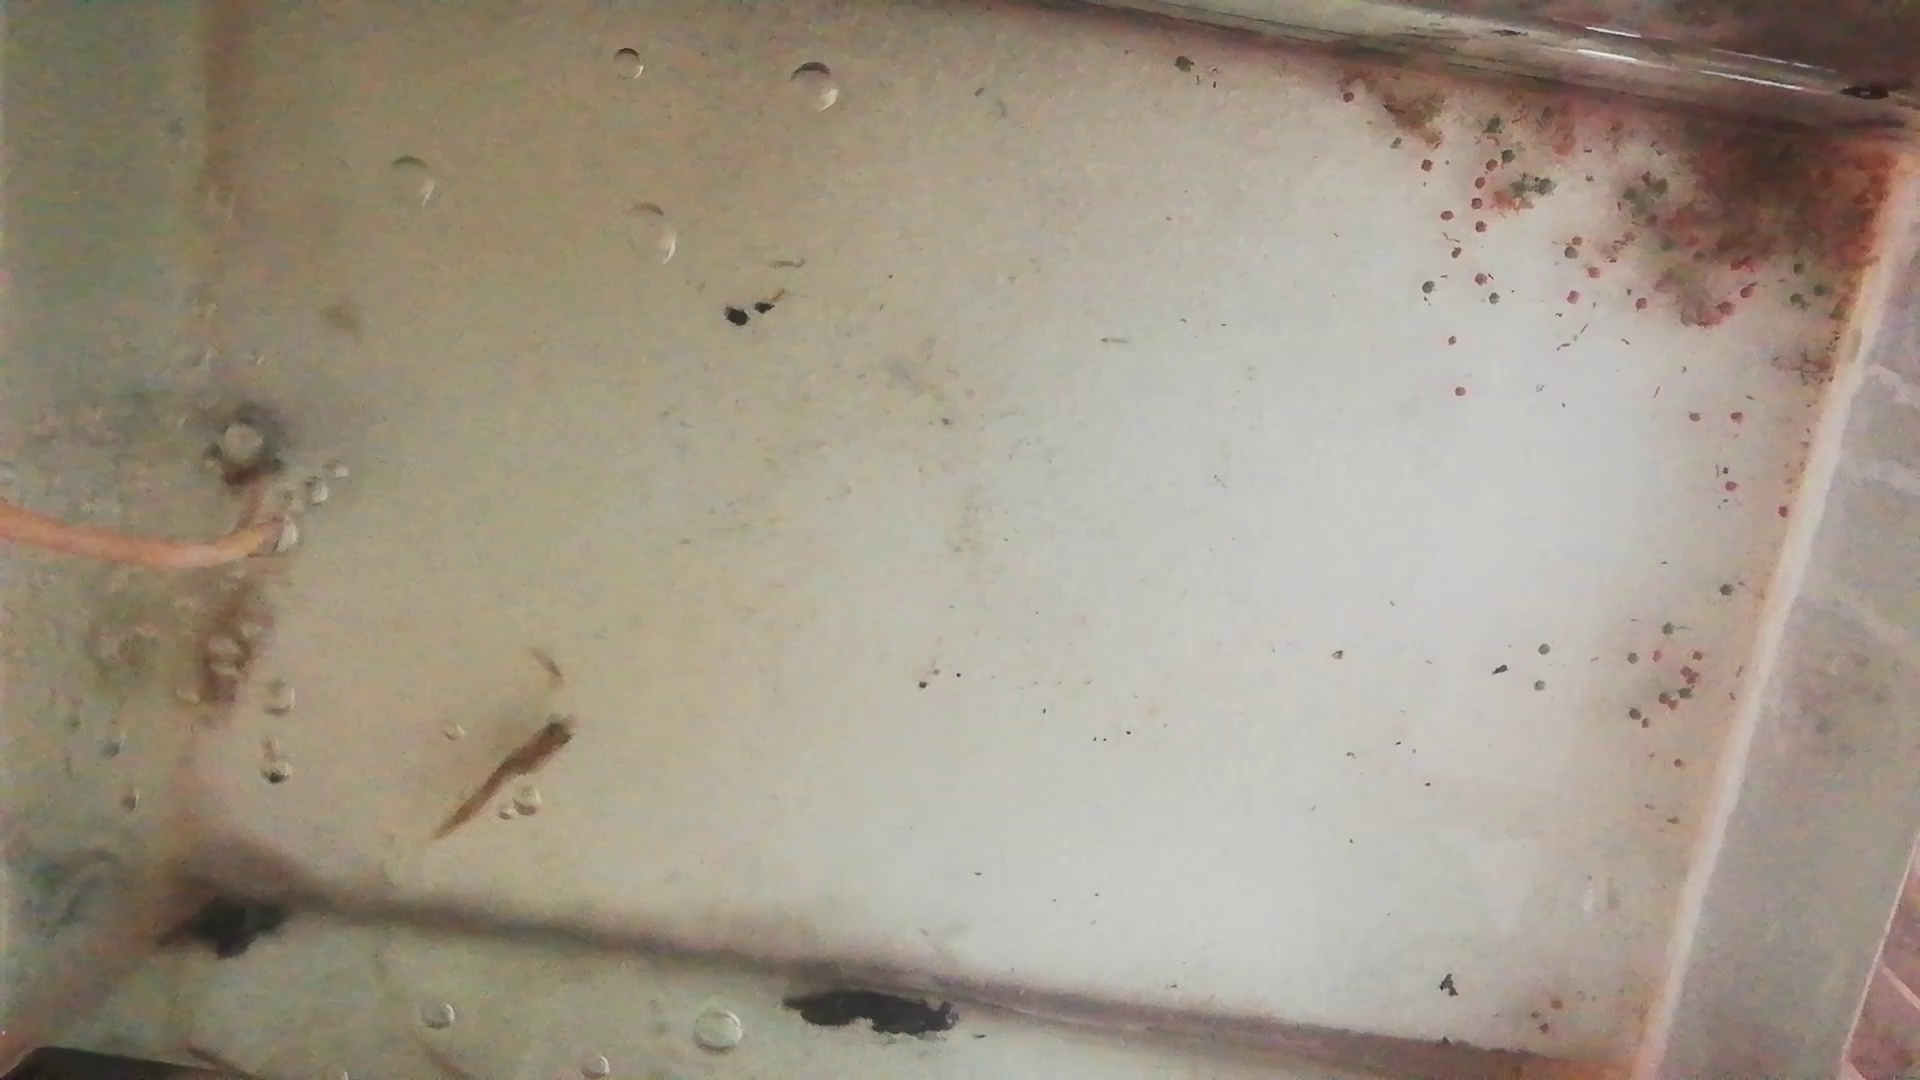fish: (430, 707, 583, 839), (193, 570, 266, 723)
